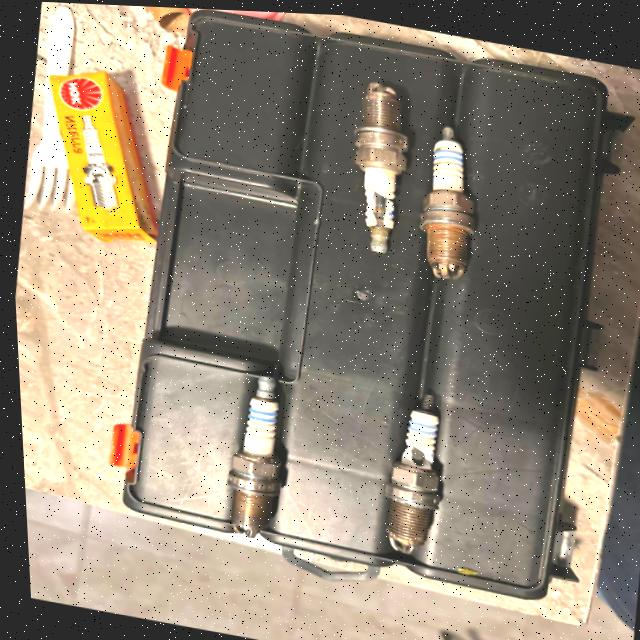damaged_spark-plug: (321, 64, 426, 261), (357, 374, 460, 563)
spark-plug: (199, 353, 309, 542), (401, 113, 495, 283)
